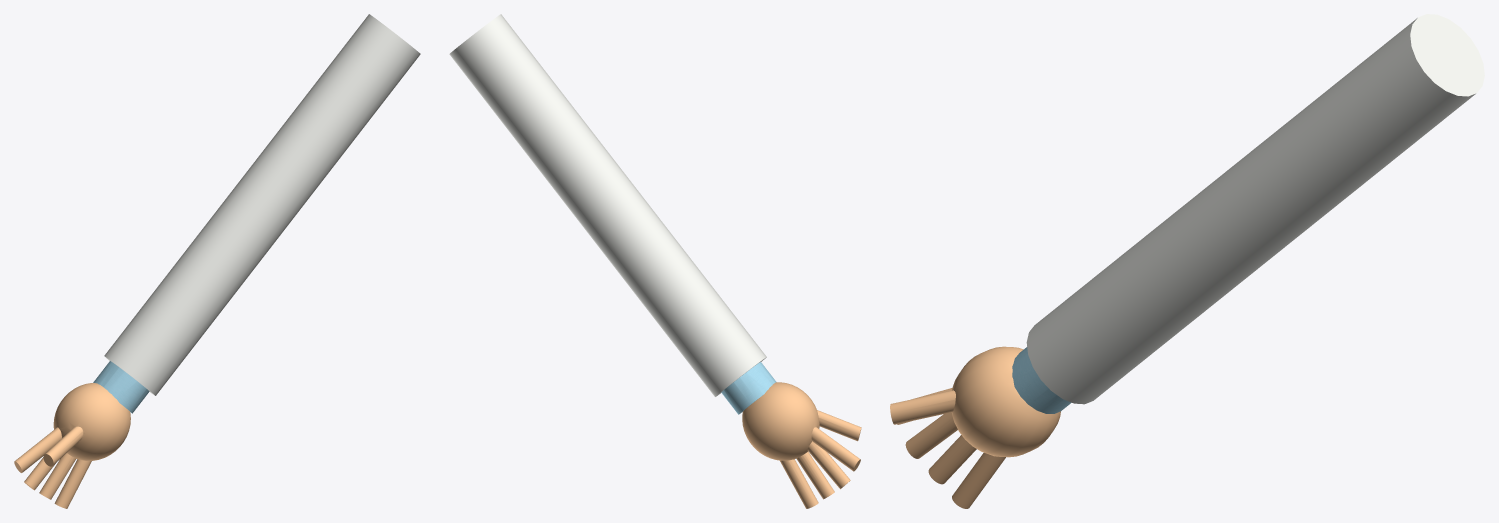
File: braizq.obj
3 renders of one model, left to right at view 1: azimuth 30°, elevation 25°; view 2: azimuth 150°, elevation 25°; view 3: azimuth 330°, elevation 25°, orthographic. The views are drawn at different scales.
Bounding box in the file's own units: 4.97 × 4.89 × 0.8187.
Materials: 3 (3 with a texture image).
